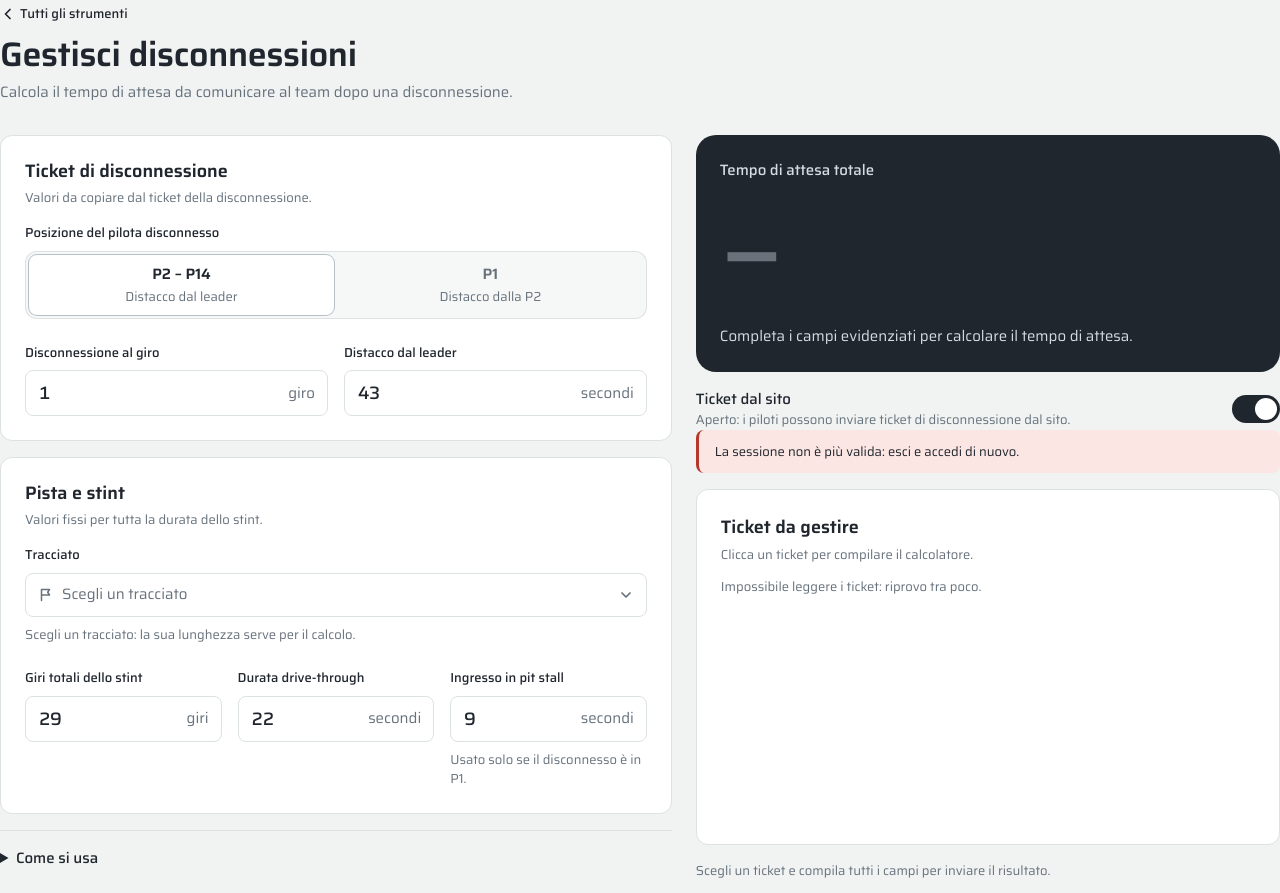
Test: <FieDisconnectionsCalculator /> › segnala un tracciato senza lunghezza
Click the button "Scegli un tracciato".
click(125, 594)  # box [25, 573, 647, 617]
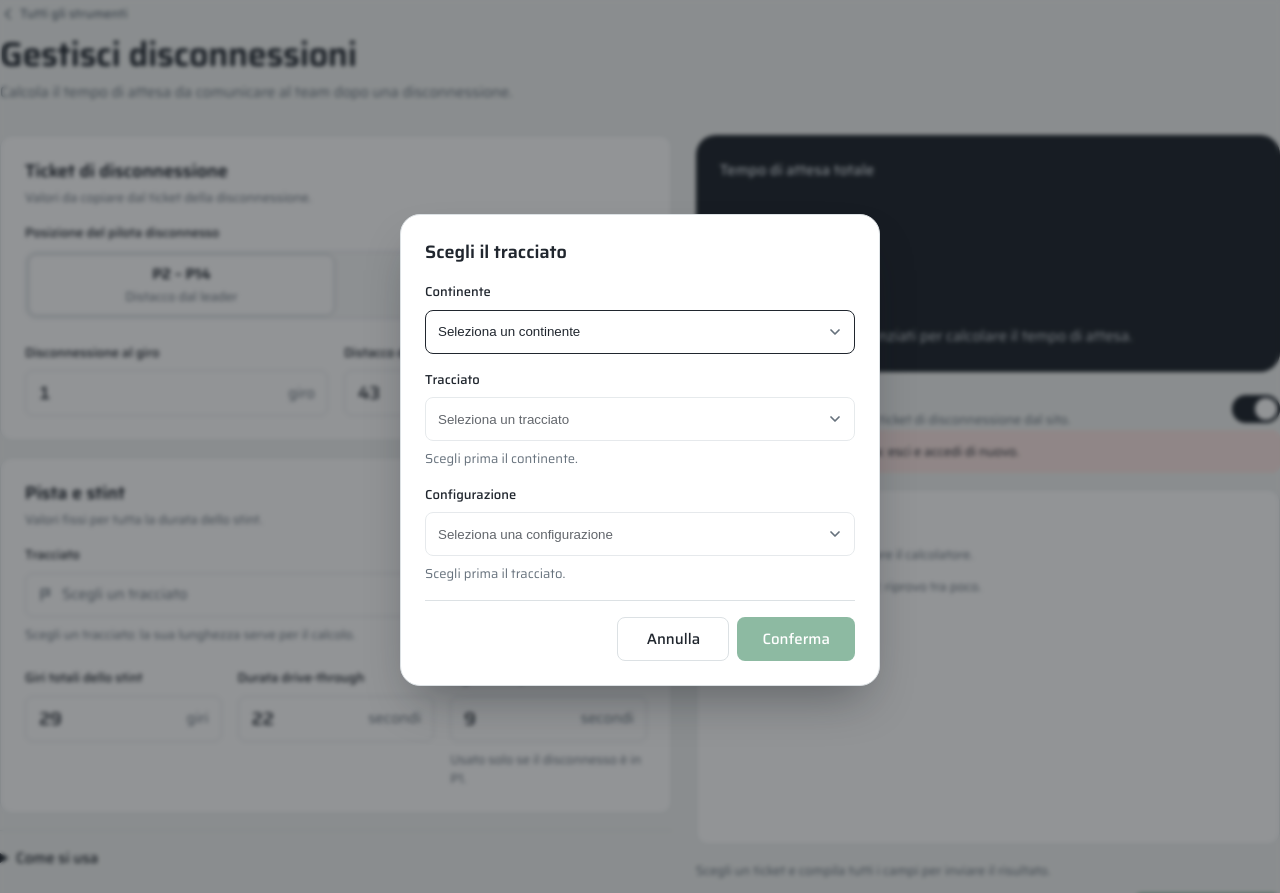
Select "Asia" in the dropdown labelled "Continente" at (640, 332), box [425, 310, 855, 354]
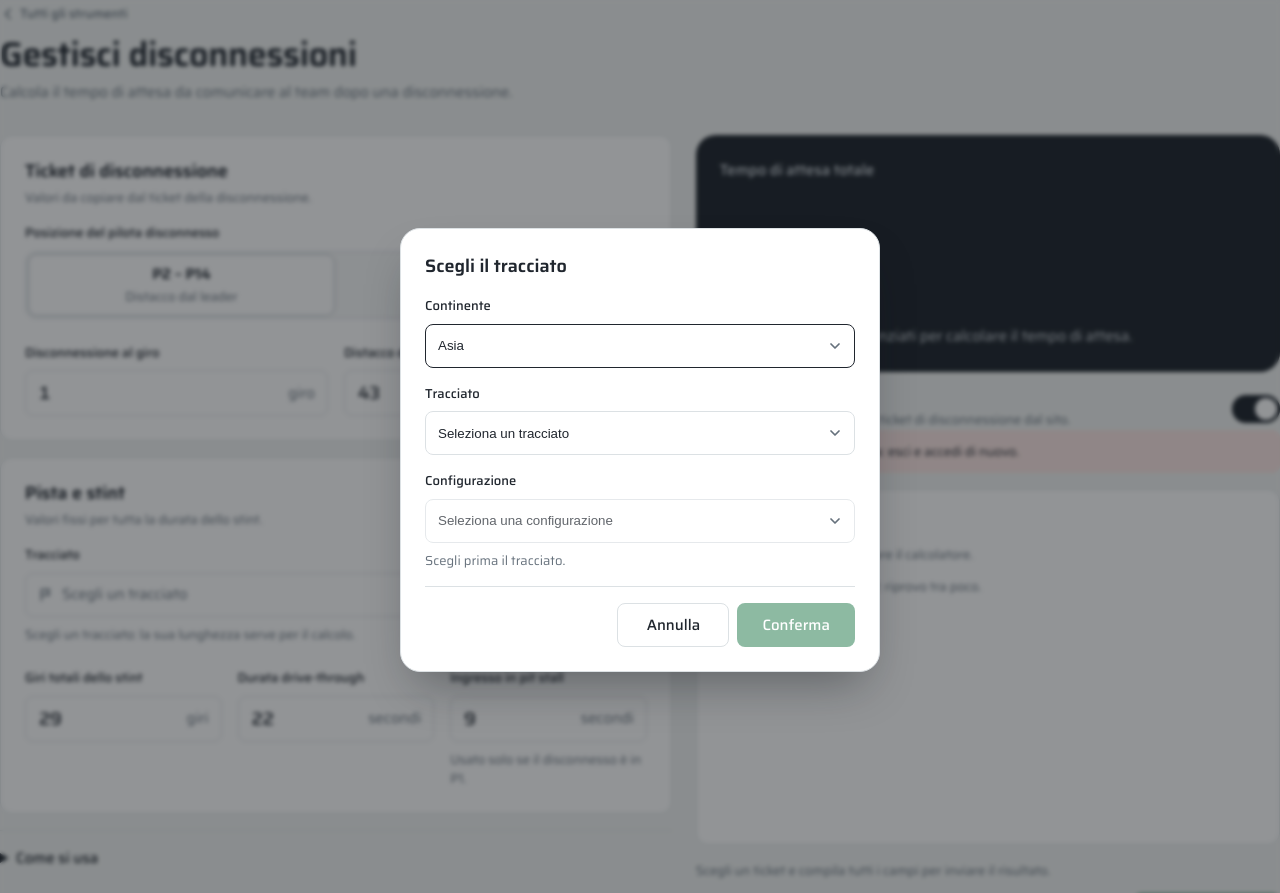
Select "Tsukuba Circuit" in the dropdown labelled "Tracciato" at (640, 433), box [425, 411, 855, 455]
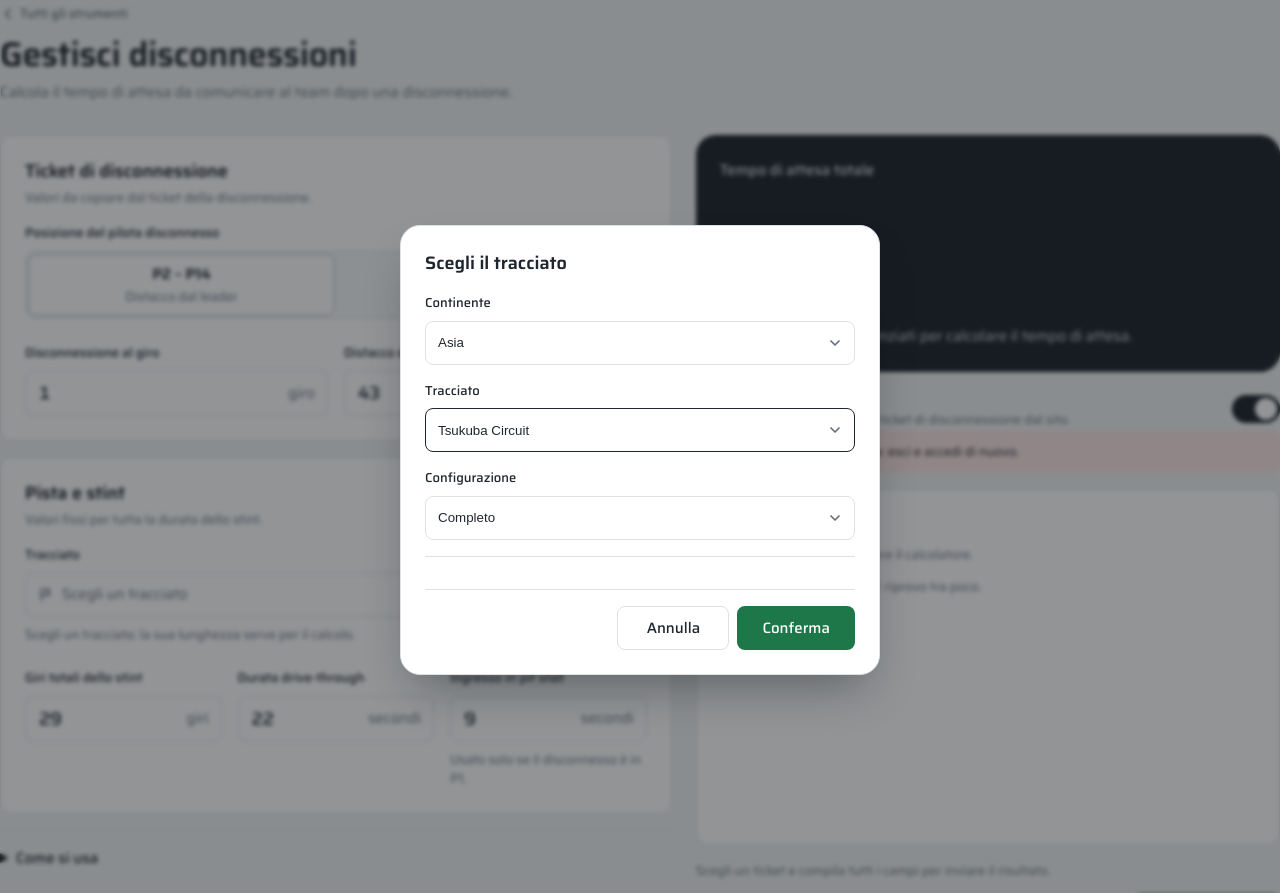
Click the button "Conferma".
click(796, 628)  # box [737, 606, 855, 650]
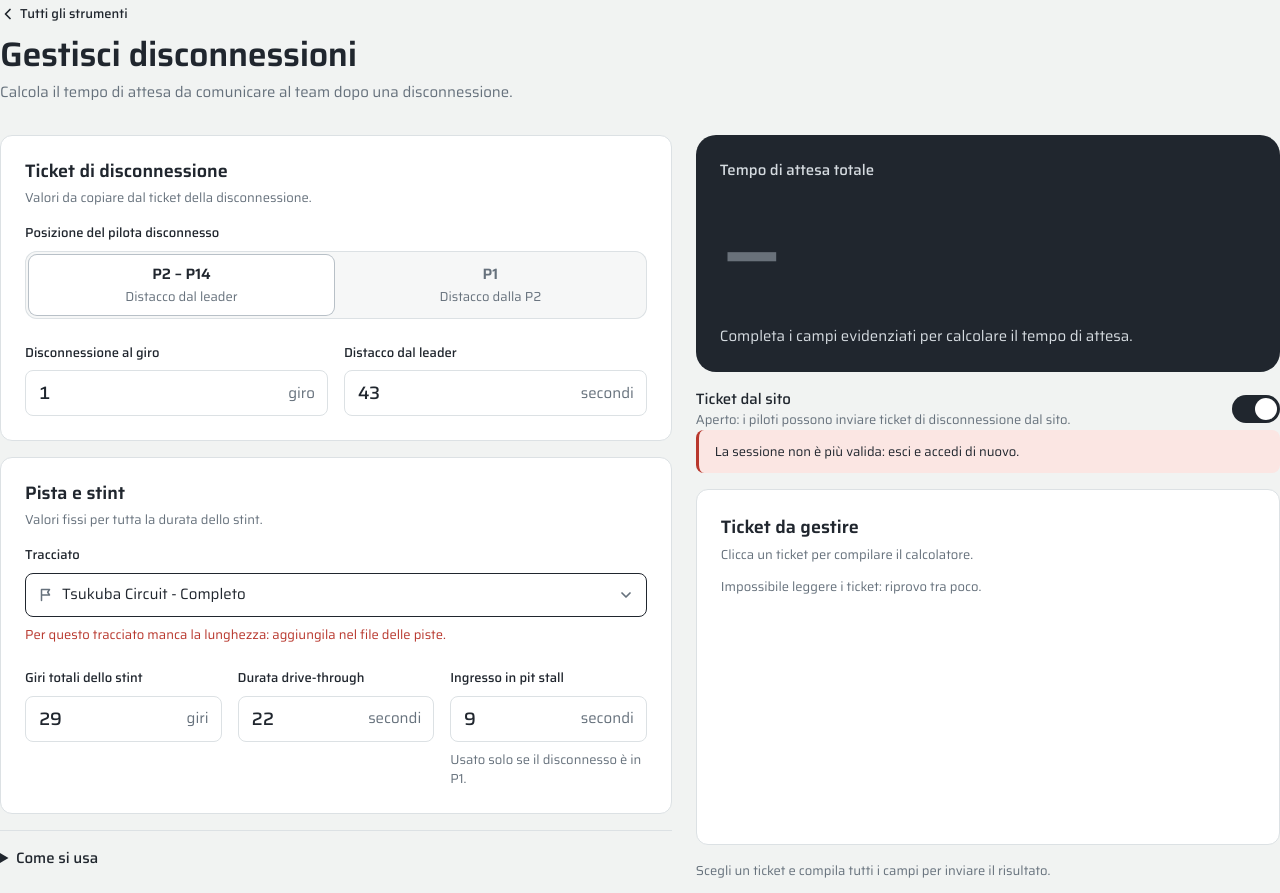
Now the text "Per questo tracciato manca la lunghezza: aggiungila nel file delle piste." is shown, box [25, 624, 446, 645]
